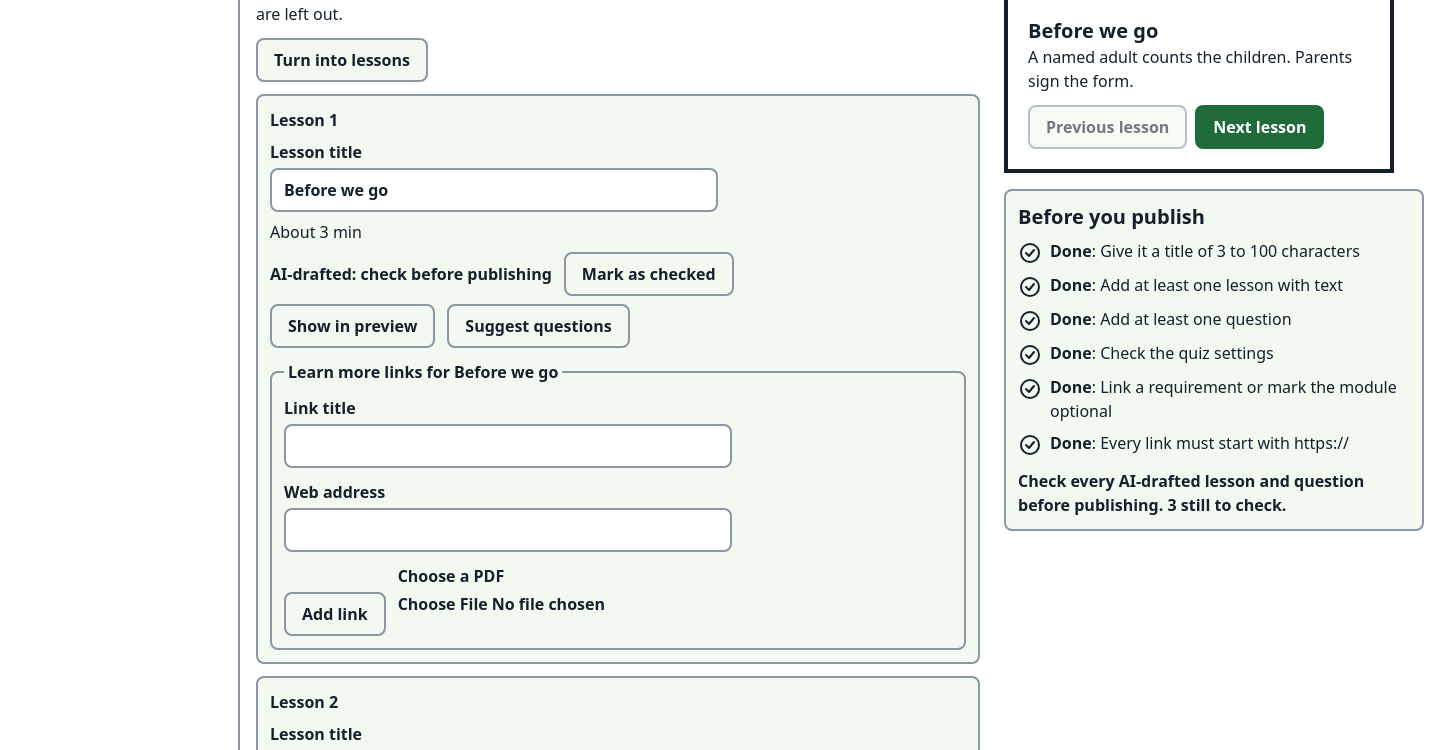
C7 Suggest questions › adds up to 3 AI-drafted questions from that lesson text, each labelled
The width and height of the screenshot is (1440, 750).
(page scrolled)
Click the button "Suggest questions".
click(539, 326)  # box top-left (447, 304), bottom-right (630, 348)
(page scrolled)
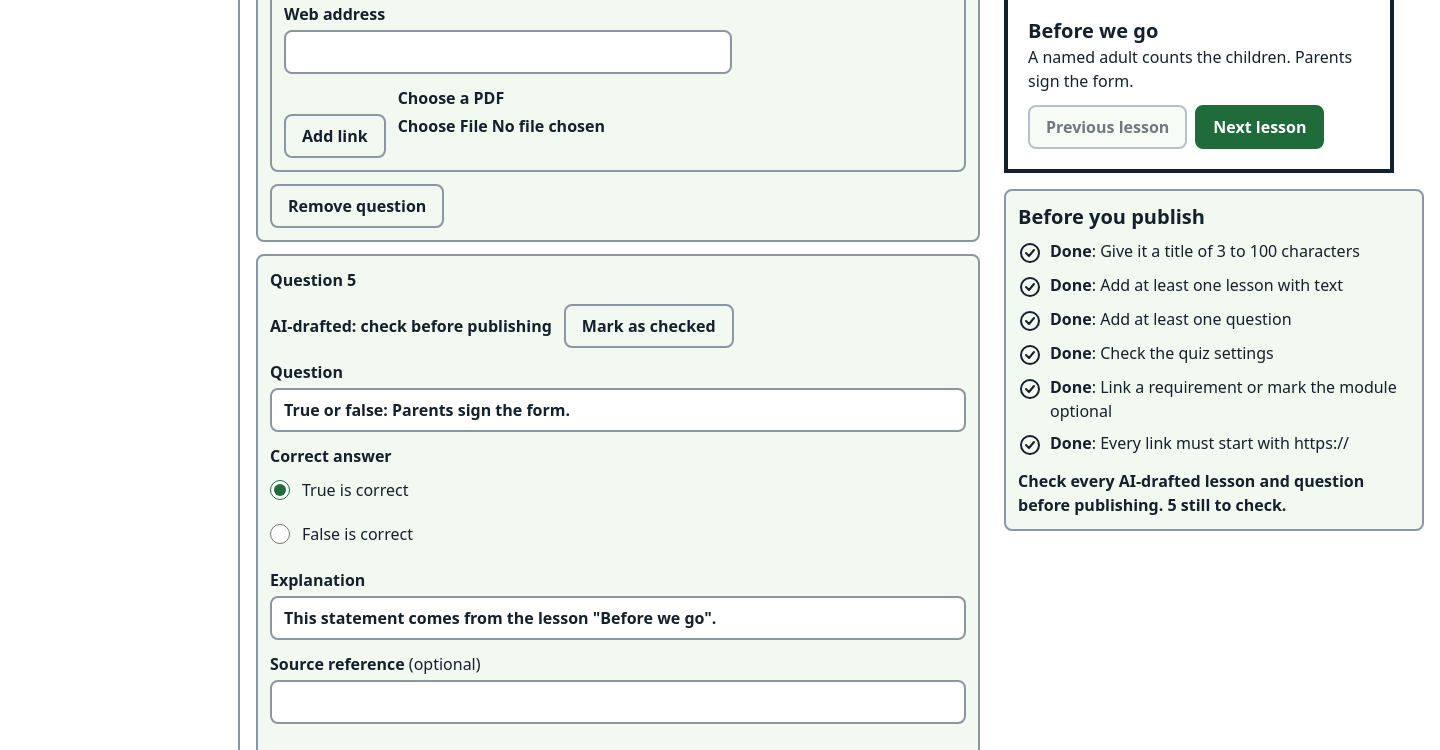
Result: the text with test id "ai-label" reads "AI-drafted: check before publishing" at top-left (270, 315), bottom-right (552, 337)
